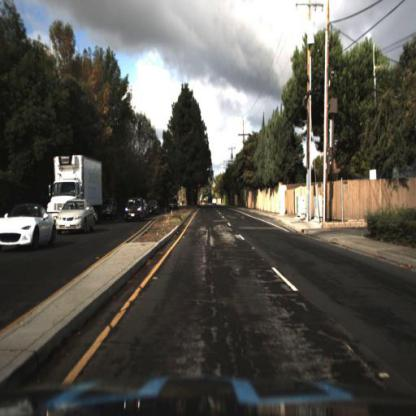car: (2, 203, 58, 251), (53, 195, 99, 239), (56, 197, 98, 237), (121, 195, 149, 225), (125, 199, 145, 220), (149, 198, 163, 223)
truck: (47, 150, 107, 224), (47, 152, 110, 204)
